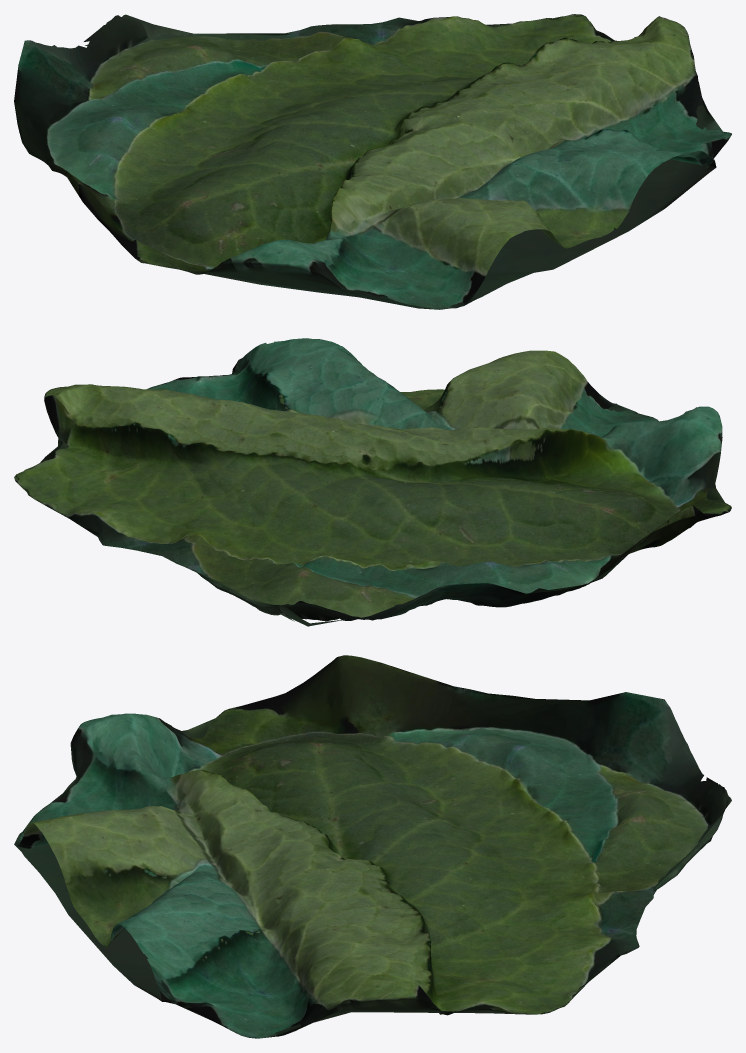
File: leaf-07.glb
3 views of the same model, one above another, from view 1: azimuth 30°, elevation 25°; view 2: azimuth 150°, elevation 25°; view 3: azimuth 270°, elevation 25° (orthographic). The views are drawn at different scales.
Parts seen in each view (by area): view 1: Mesh; view 2: Mesh; view 3: Mesh.
Boxes of the visible parts, x1,y1,x2,y2 form: Mesh: [14, 14, 731, 309]; Mesh: [14, 338, 731, 626]; Mesh: [14, 655, 731, 1038].
Size of the model in its own units: 0.2105 by 0.0273 by 0.1949.
Materials: 1 (1 with a texture image).
